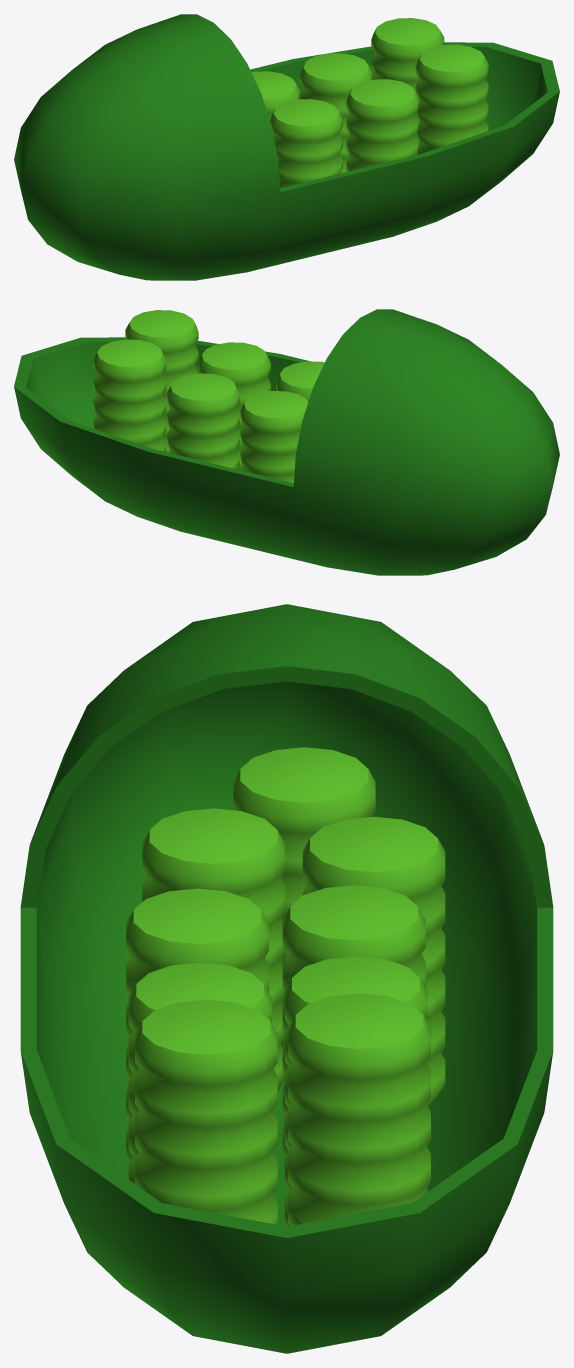
Rendered from Chloroplast.FBX.
3 renders of one model, top to bottom at view 1: azimuth 30°, elevation 25°; view 2: azimuth 150°, elevation 25°; view 3: azimuth 270°, elevation 25°, orthographic. The views are drawn at different scales.
Visible parts, largest first — view 1: Chloroplast_Plant_Cell_OuterMembrane, Chloroplast_Plant_Cell_Thylakoid7, Chloroplast_Plant_Cell_Thylakoid5, Chloroplast_Plant_Cell_Thylakoid3, Chloroplast_Plant_Cell_Thylakoid8, Chloroplast_Plant_Cell_Thylakoid6, Chloroplast_Plant_Cell_Thylakoid4; view 2: Chloroplast_Plant_Cell_OuterMembrane, Chloroplast_Plant_Cell_Thylakoid8, Chloroplast_Plant_Cell_Thylakoid6, Chloroplast_Plant_Cell_Thylakoid4, Chloroplast_Plant_Cell_Thylakoid7, Chloroplast_Plant_Cell_Thylakoid5, Chloroplast_Plant_Cell_Thylakoid3; view 3: Chloroplast_Plant_Cell_OuterMembrane, Chloroplast_Plant_Cell_Thylakoid8, Chloroplast_Plant_Cell_Thylakoid7, Chloroplast_Plant_Cell_Thylakoid2, Chloroplast_Plant_Cell_Thylakoid1, Thylakoid_Chloroplast_Plant_Cell, Chloroplast_Plant_Cell_Thylakoid3, Chloroplast_Plant_Cell_Thylakoid4, Chloroplast_Plant_Cell_Thylakoid5, Chloroplast_Plant_Cell_Thylakoid6.
Part boxes in pixels (x1,y1,x2,y2): Chloroplast_Plant_Cell_OuterMembrane: (14, 14, 559, 280); Chloroplast_Plant_Cell_Thylakoid7: (415, 44, 488, 154); Chloroplast_Plant_Cell_Thylakoid5: (346, 79, 419, 171); Chloroplast_Plant_Cell_Thylakoid3: (270, 99, 342, 188); Chloroplast_Plant_Cell_Thylakoid8: (371, 18, 444, 91); Chloroplast_Plant_Cell_Thylakoid6: (299, 53, 372, 173); Chloroplast_Plant_Cell_Thylakoid4: (251, 71, 299, 119); Chloroplast_Plant_Cell_OuterMembrane: (14, 309, 559, 575); Chloroplast_Plant_Cell_Thylakoid8: (93, 339, 166, 451); Chloroplast_Plant_Cell_Thylakoid6: (167, 373, 239, 469); Chloroplast_Plant_Cell_Thylakoid4: (240, 391, 308, 483); Chloroplast_Plant_Cell_Thylakoid7: (125, 310, 198, 452); Chloroplast_Plant_Cell_Thylakoid5: (198, 342, 270, 470); Chloroplast_Plant_Cell_Thylakoid3: (276, 361, 324, 401); Chloroplast_Plant_Cell_OuterMembrane: (20, 604, 553, 1353); Chloroplast_Plant_Cell_Thylakoid8: (288, 993, 430, 1225); Chloroplast_Plant_Cell_Thylakoid7: (135, 999, 277, 1224); Chloroplast_Plant_Cell_Thylakoid2: (142, 808, 284, 1091); Chloroplast_Plant_Cell_Thylakoid1: (302, 817, 445, 1106); Thylakoid_Chloroplast_Plant_Cell: (233, 747, 375, 1046); Chloroplast_Plant_Cell_Thylakoid3: (126, 888, 268, 1160); Chloroplast_Plant_Cell_Thylakoid4: (282, 885, 425, 1158); Chloroplast_Plant_Cell_Thylakoid5: (128, 962, 271, 1183); Chloroplast_Plant_Cell_Thylakoid6: (284, 956, 427, 1226).
Bounding box in the file's own units: 69.03 × 30 × 30.
